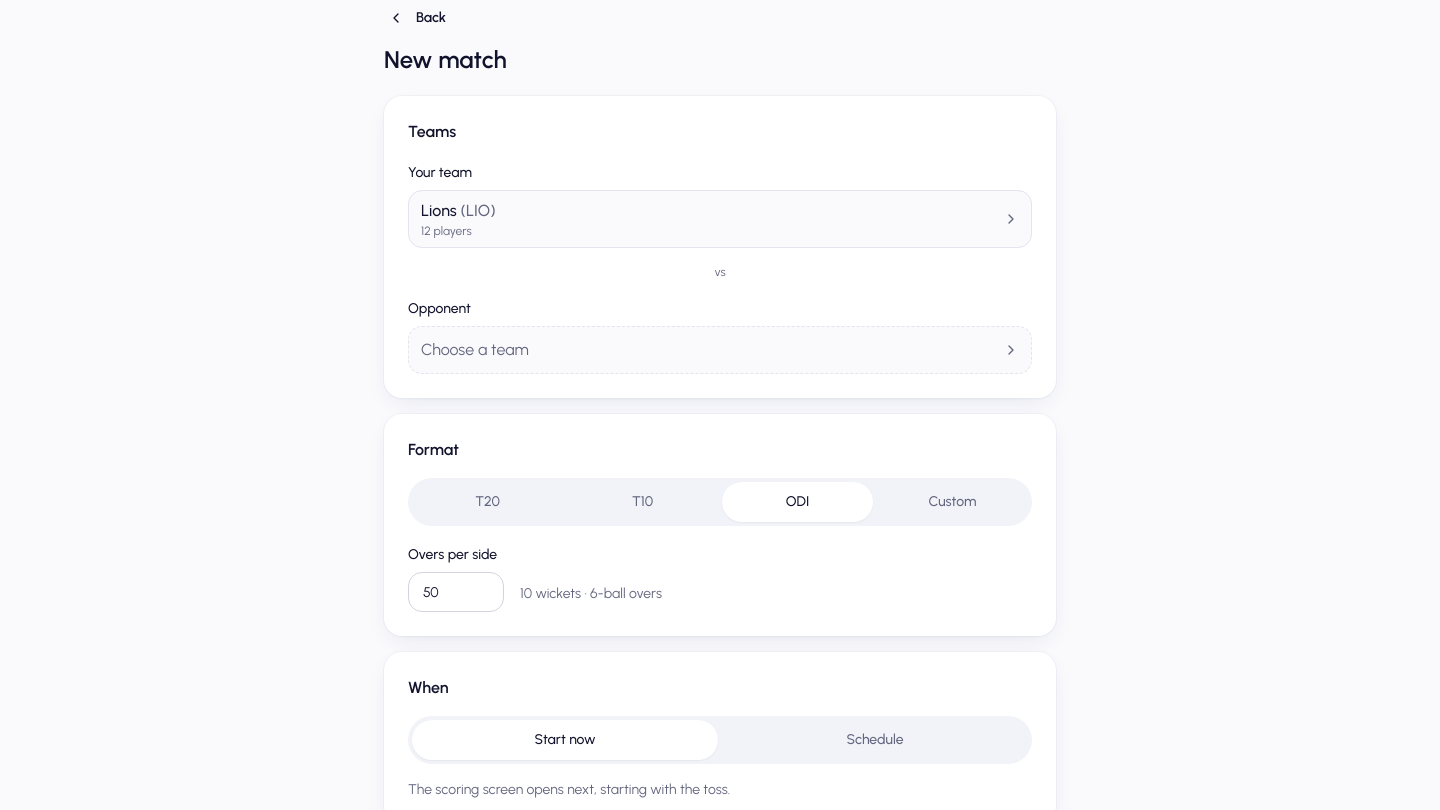
it: New match form › remembers the last format and host team
Expected: the button named "your team" shows "Lions", [408, 190, 1032, 248]
Click the button named "opponent": x=475, y=350 [408, 326, 1032, 374]
(page scrolled)
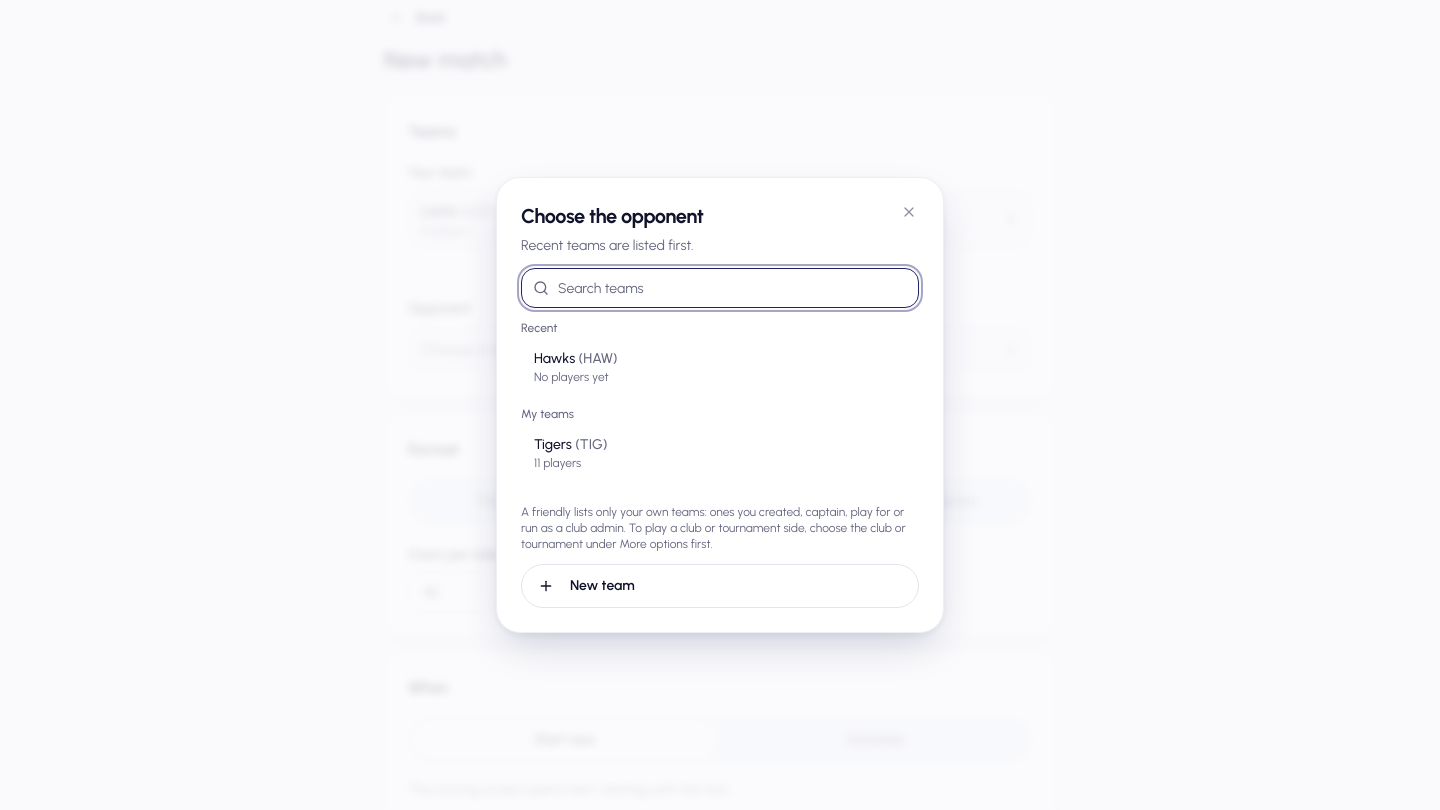
Expected: the element "Recent" shows "Hawks", [521, 340, 919, 394]
